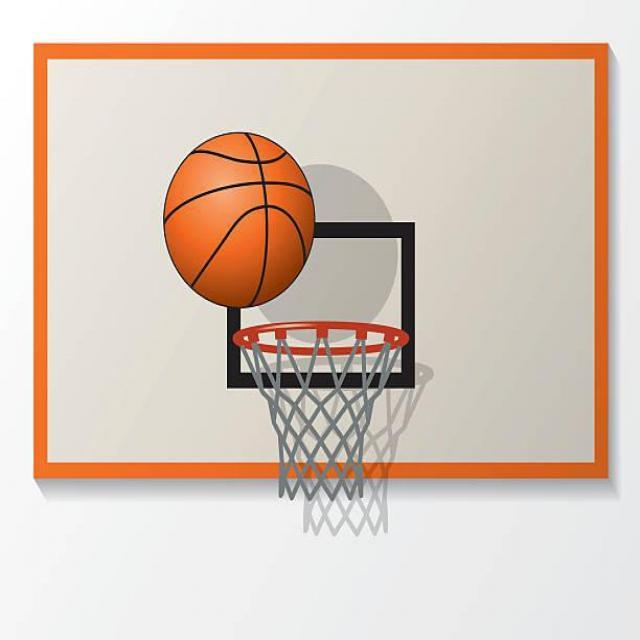Basketball: (164, 132, 315, 308)
hoop: (233, 320, 409, 502)
